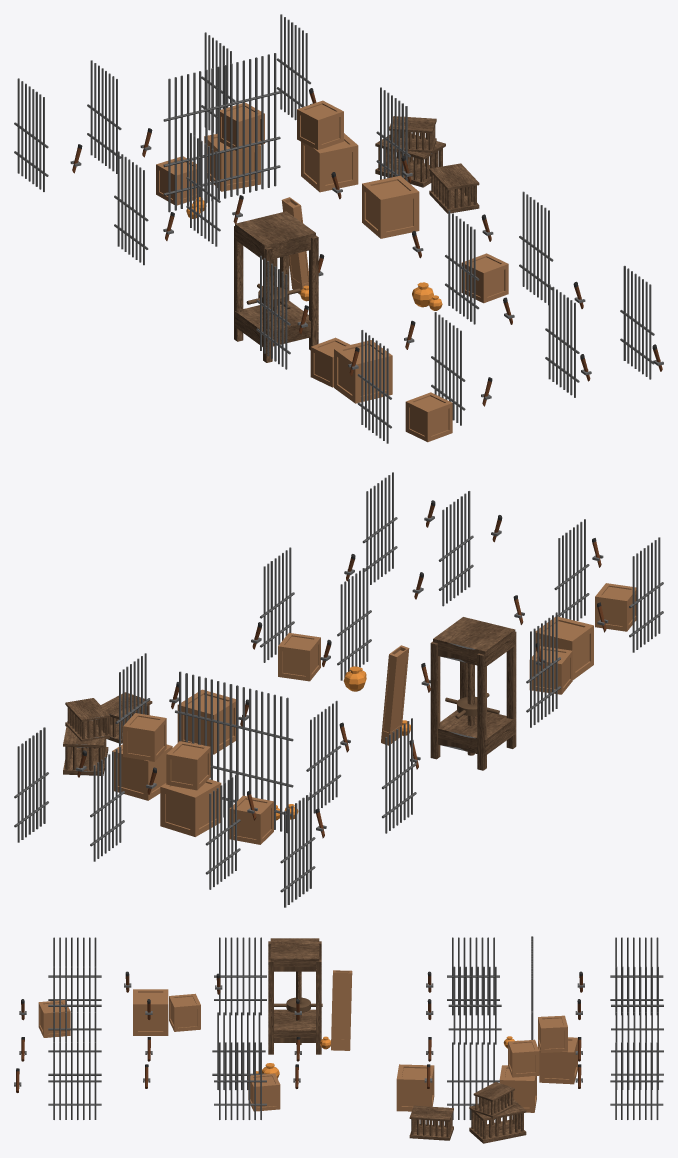
The model's file is tutOBJ.glb.
3 renders of one model, top to bottom at view 1: azimuth 30°, elevation 25°; view 2: azimuth 150°, elevation 25°; view 3: azimuth 270°, elevation 25°, orthographic. The views are drawn at different scales.
Parts seen in each view (by area): view 1: Cube.809; view 2: Cube.809; view 3: Cube.809.
Boxes of the visible parts, box(x1,y1,x2,y2) form: Cube.809: box(14, 14, 663, 443); Cube.809: box(14, 472, 663, 907); Cube.809: box(14, 936, 663, 1143).
Bounding box in the file's own units: 51.56 × 23 × 110.
Materials: 145 (72 with a texture image).
